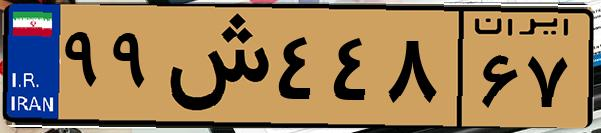4: (270, 28, 330, 110), (330, 28, 385, 110)
6: (475, 38, 525, 113)
7: (525, 38, 570, 115)
8: (385, 28, 445, 110)
9: (57, 26, 110, 100), (110, 28, 158, 98)
ش: (158, 12, 270, 120)
